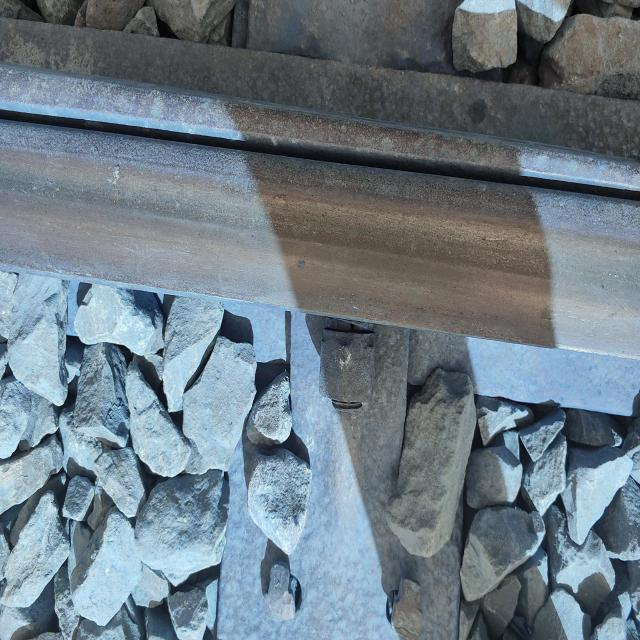Good Fasteners: (320, 328, 375, 406)
